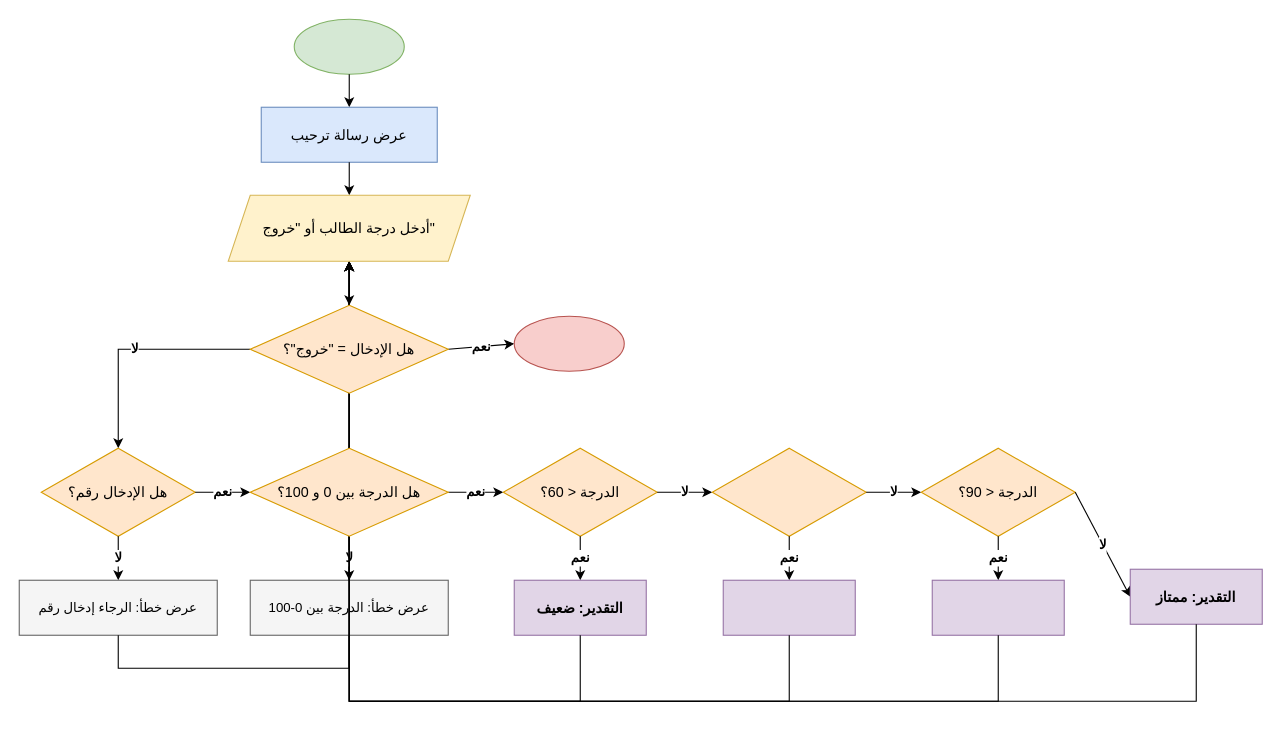
This 1282x729 diagram has some shape labels left out. Each missing label, with the centre of its shape:
البداية: (x=348, y=46)
التقدير: جيد: (x=788, y=607)
التقدير: جيد جداً: (x=997, y=607)
الدرجة < 75؟: (x=788, y=491)
النهاية: (x=568, y=343)
